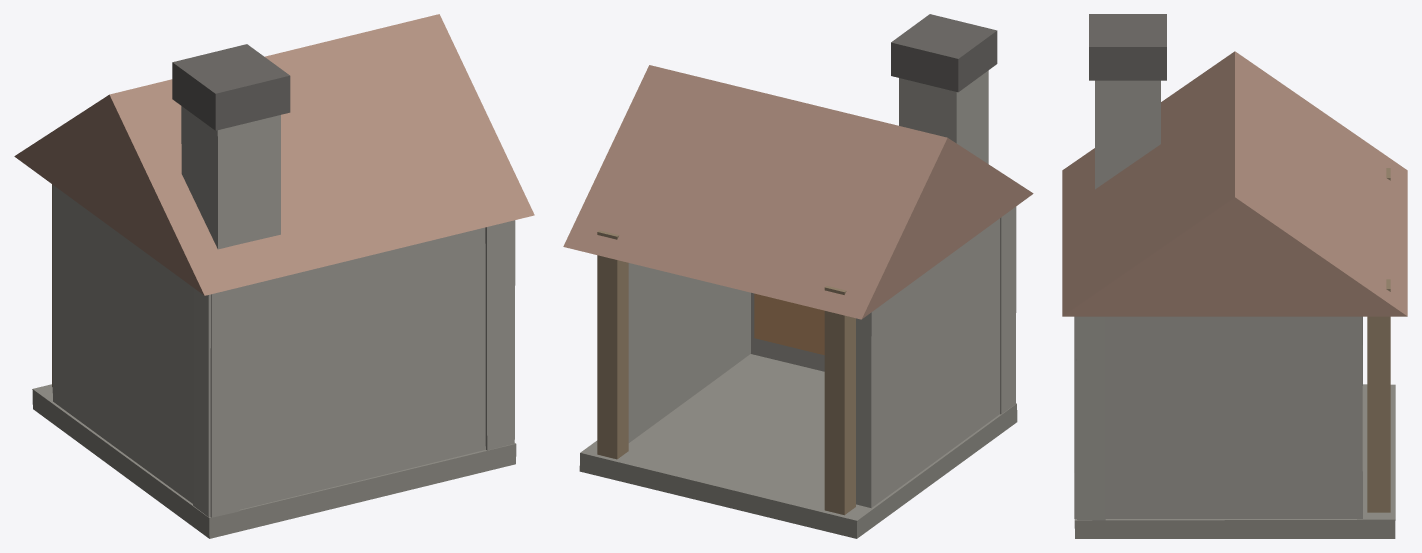
Rendered from foundry_forge.glb.
3 renders of one model, left to right at view 1: azimuth 30°, elevation 25°; view 2: azimuth 150°, elevation 25°; view 3: azimuth 270°, elevation 25°, orthographic. The views are drawn at different scales.
Parts seen in each view (by area): view 1: foundry_forge; view 2: foundry_forge; view 3: foundry_forge.
Part boxes in pixels (<box>): foundry_forge: <box>14,14,534,538</box>; foundry_forge: <box>563,14,1033,538</box>; foundry_forge: <box>1062,14,1407,538</box>.
Bounding box in the file's own units: 4.2 × 5.3 × 4.2.
